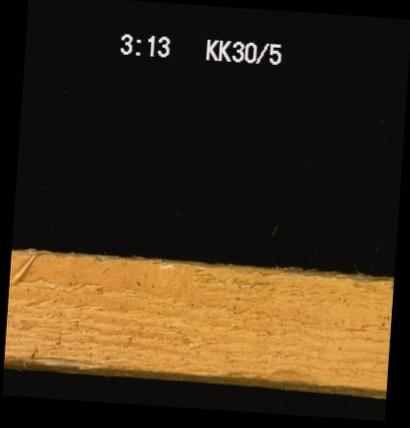wave: (193, 361, 334, 387), (6, 351, 98, 370)
